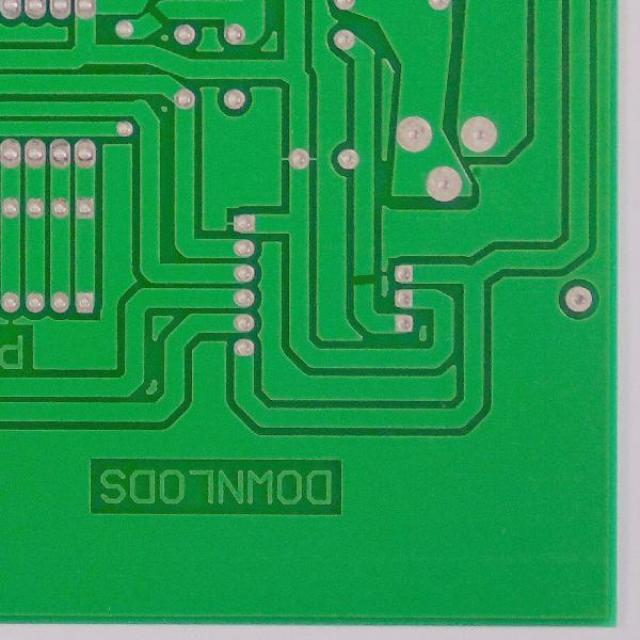Open_Circuit: (343, 264, 383, 296), (142, 3, 174, 31)
